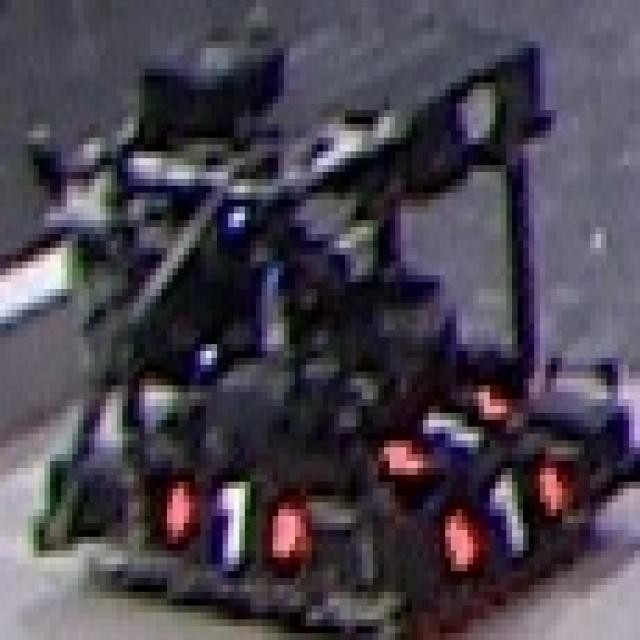R1: (440, 461, 568, 571), (162, 468, 300, 564), (378, 378, 506, 468)
